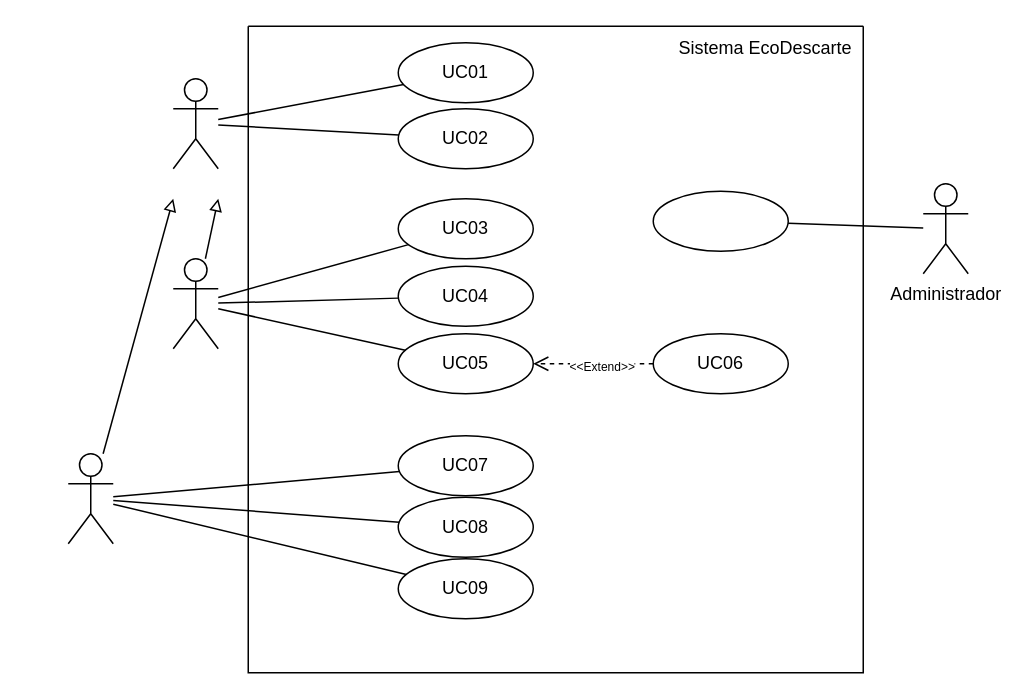
This 1028x699 diagram has some shape labels left out. The centre of each missing label's shape, as x and y in pixels:
"Cidadão" belongs at point (195, 303).
"Ponto de Coleta" belongs at point (90, 498).
"UC10" belongs at point (720, 220).
"Usuário" belongs at point (195, 123).
